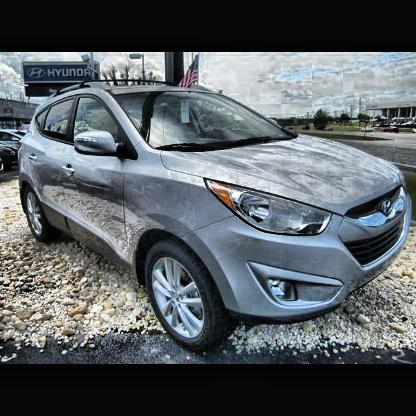Hyundai Tucson SUV 2012: (19, 80, 414, 351)
